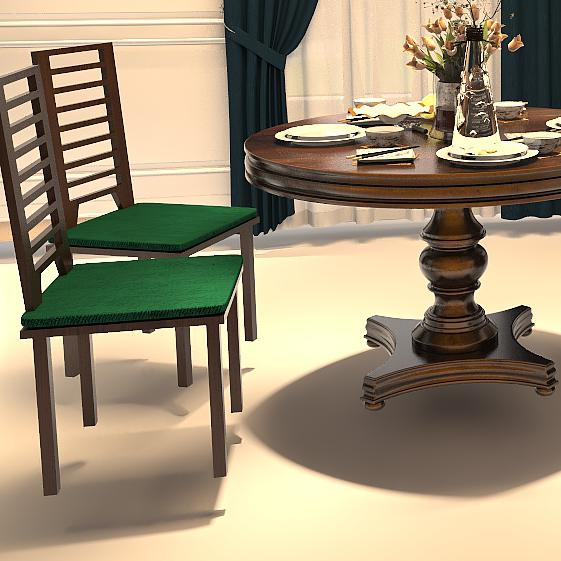table: (239, 99, 561, 412)
